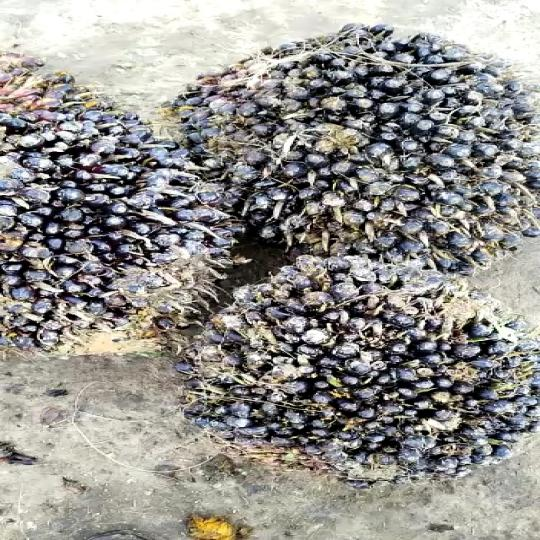mentah: (157, 19, 540, 285), (188, 246, 540, 488), (0, 56, 215, 367)
